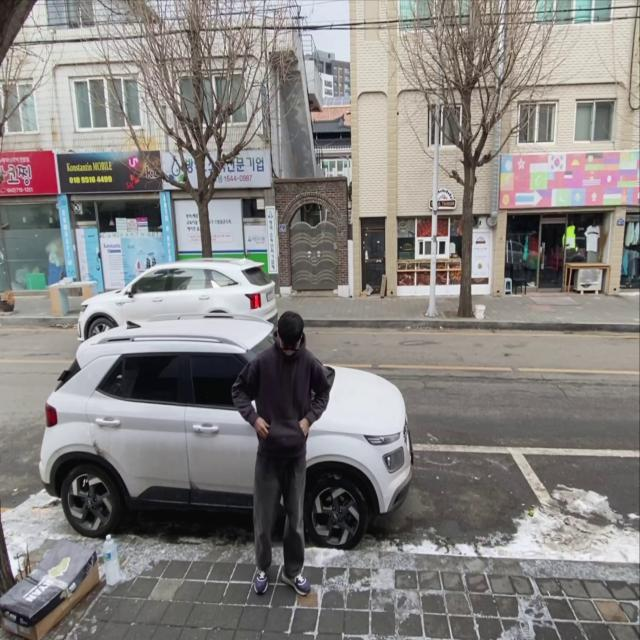bare_hand: (252, 416, 274, 442), (297, 419, 309, 438)
